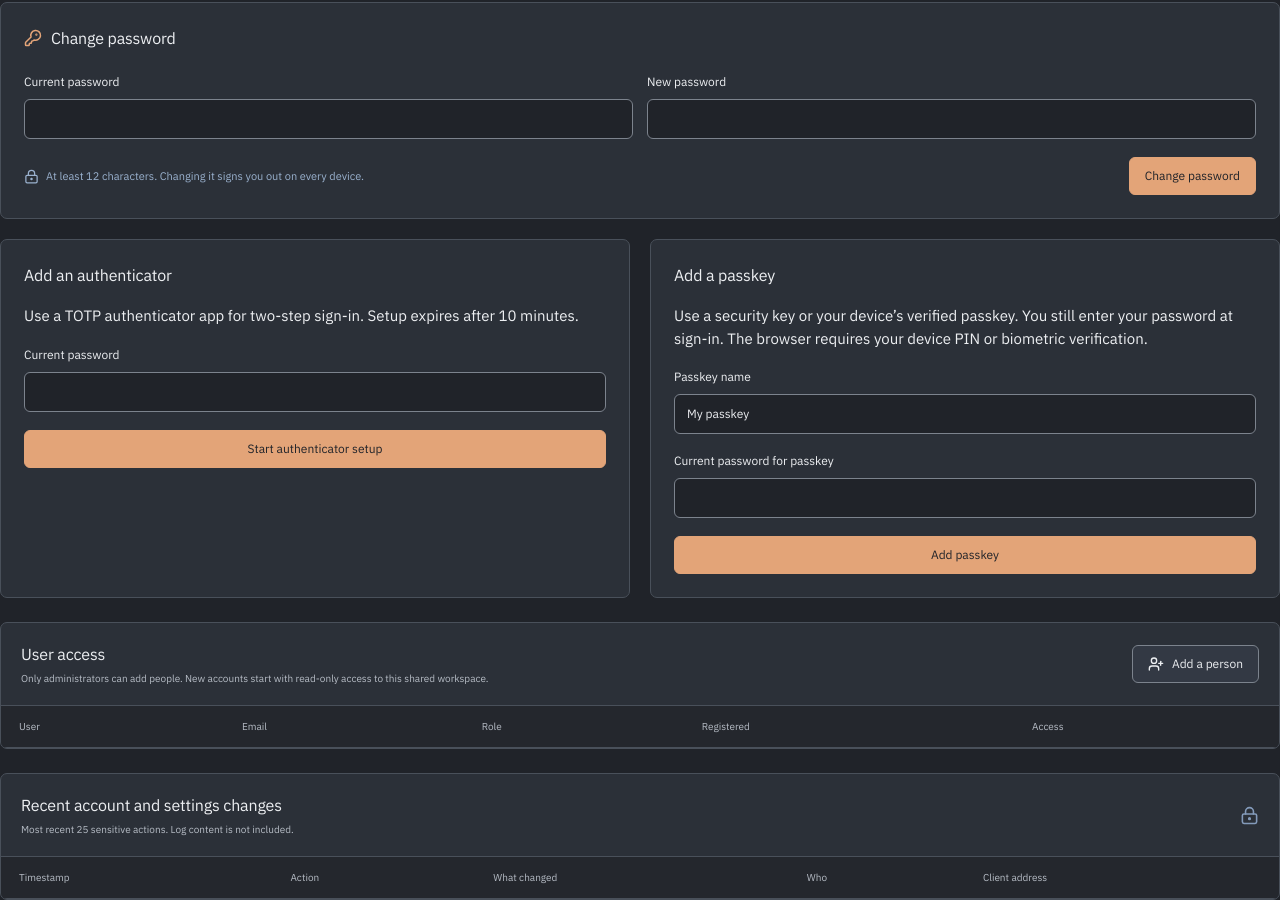
it: administrator account admission › requires an explicit trust acknowledgement and creates only read-only access
(page scrolled)
Click the button "Add a person" at (1196, 664), box [1132,645,1259,683]
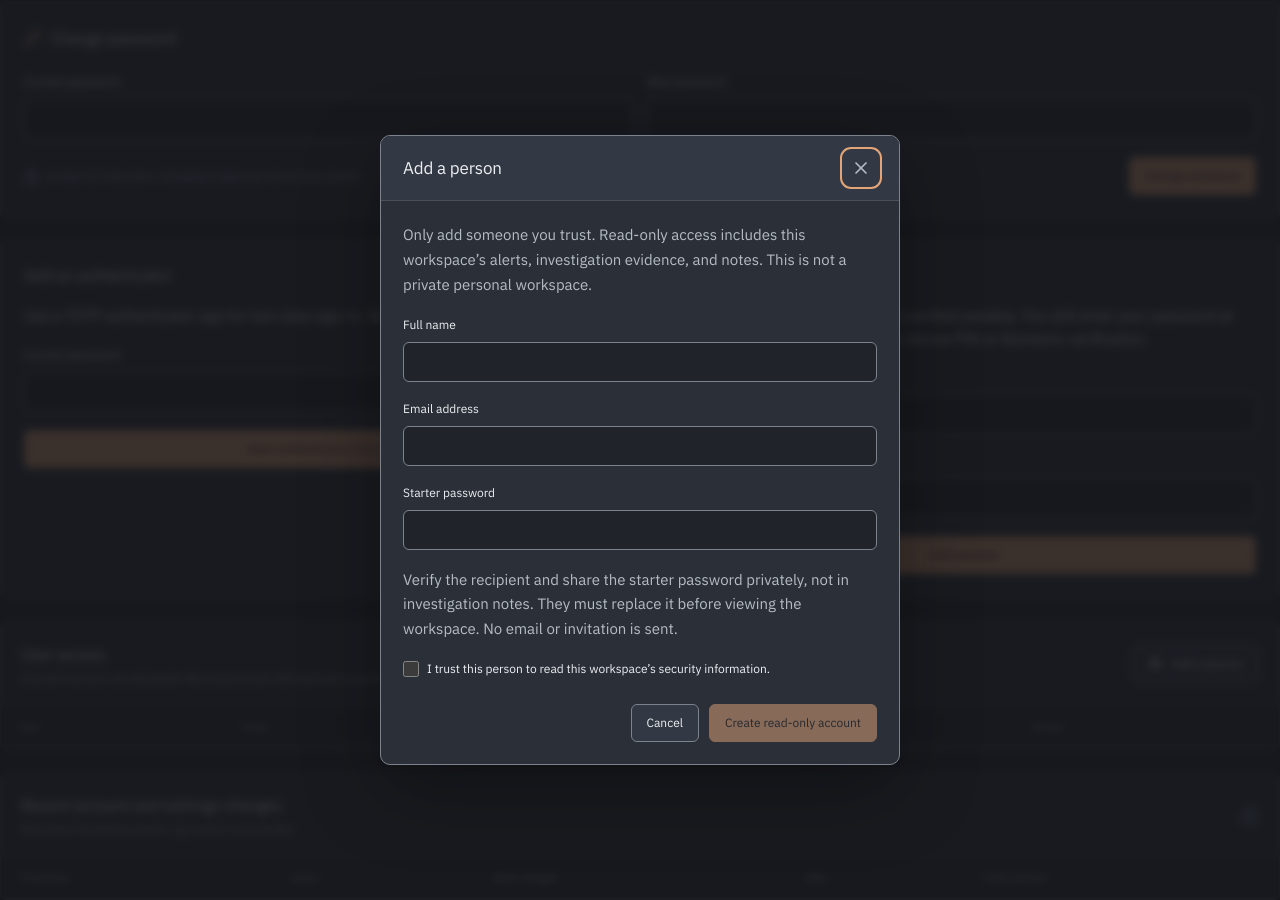
Now the text "not a private personal workspace" is shown, box [403,225,847,294]
Now the button "Create read-only account" is disabled, box [709,704,877,742]
Type "Trusted teammate" into the field labelled "Full name" at (640, 362), box [403,342,877,382]
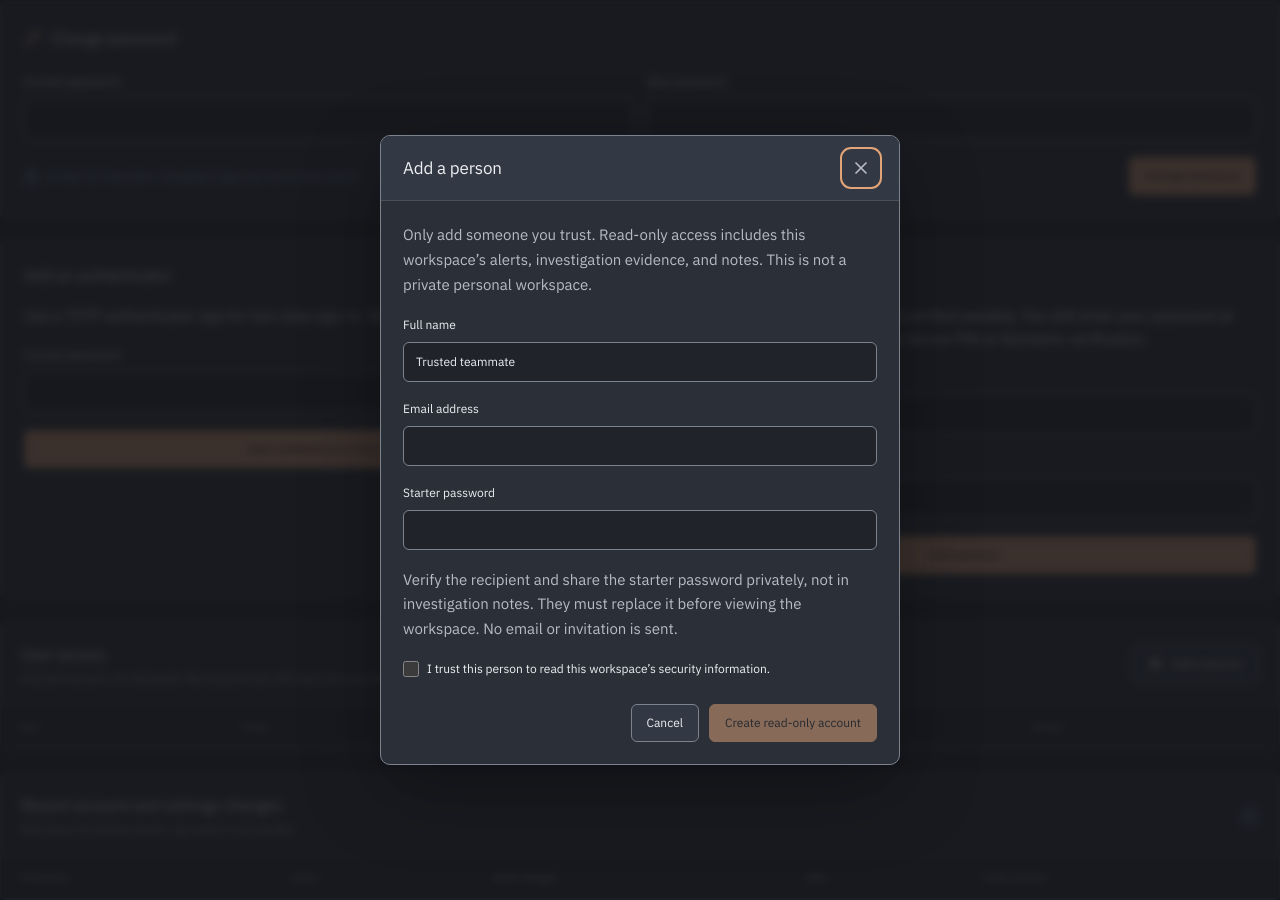
Type "teammate@example.com" into the field labelled "Email address" at (640, 446), box [403,426,877,466]
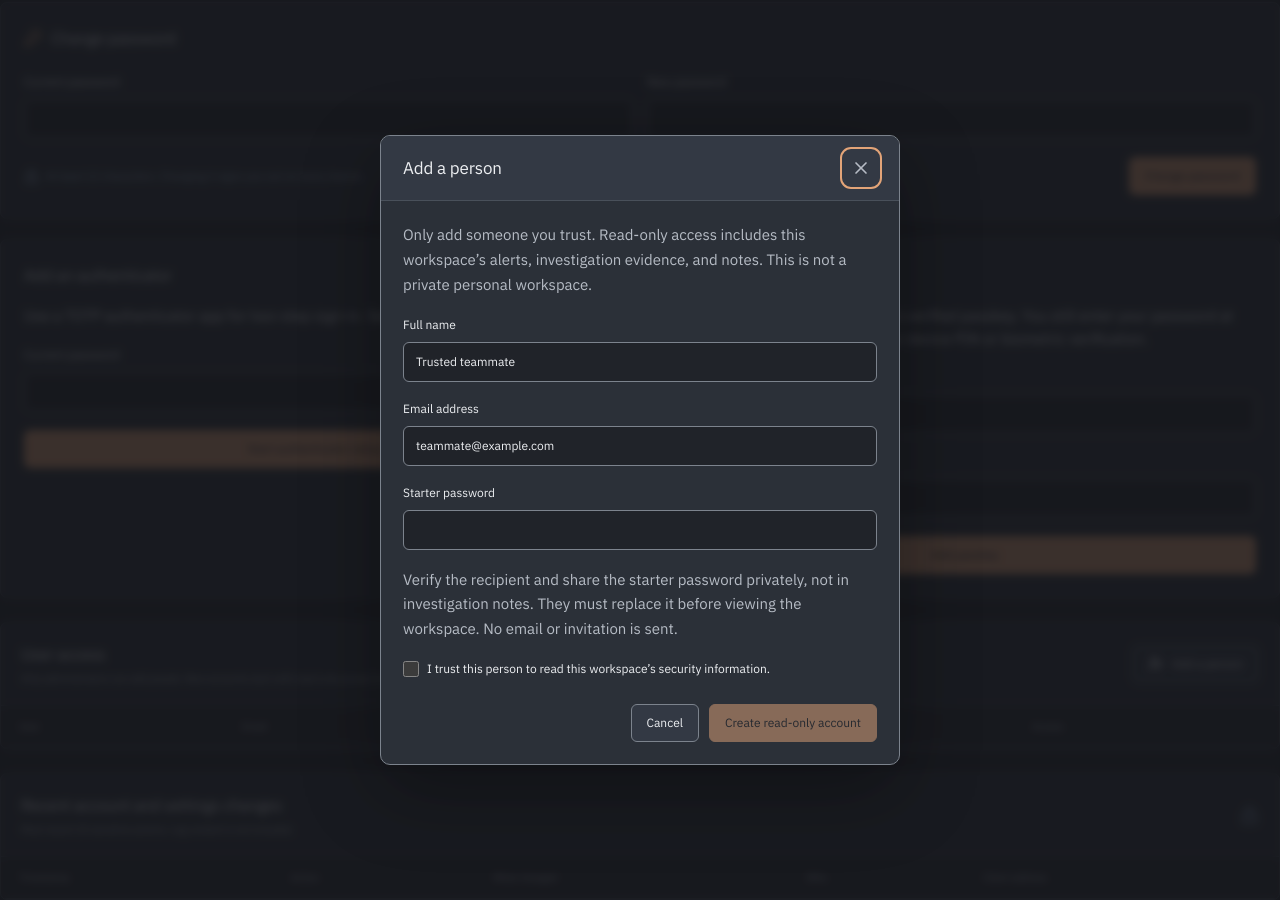
Type "Test-only-password-123!" into the password field labelled "Starter password" at (640, 530), box [403,510,877,550]
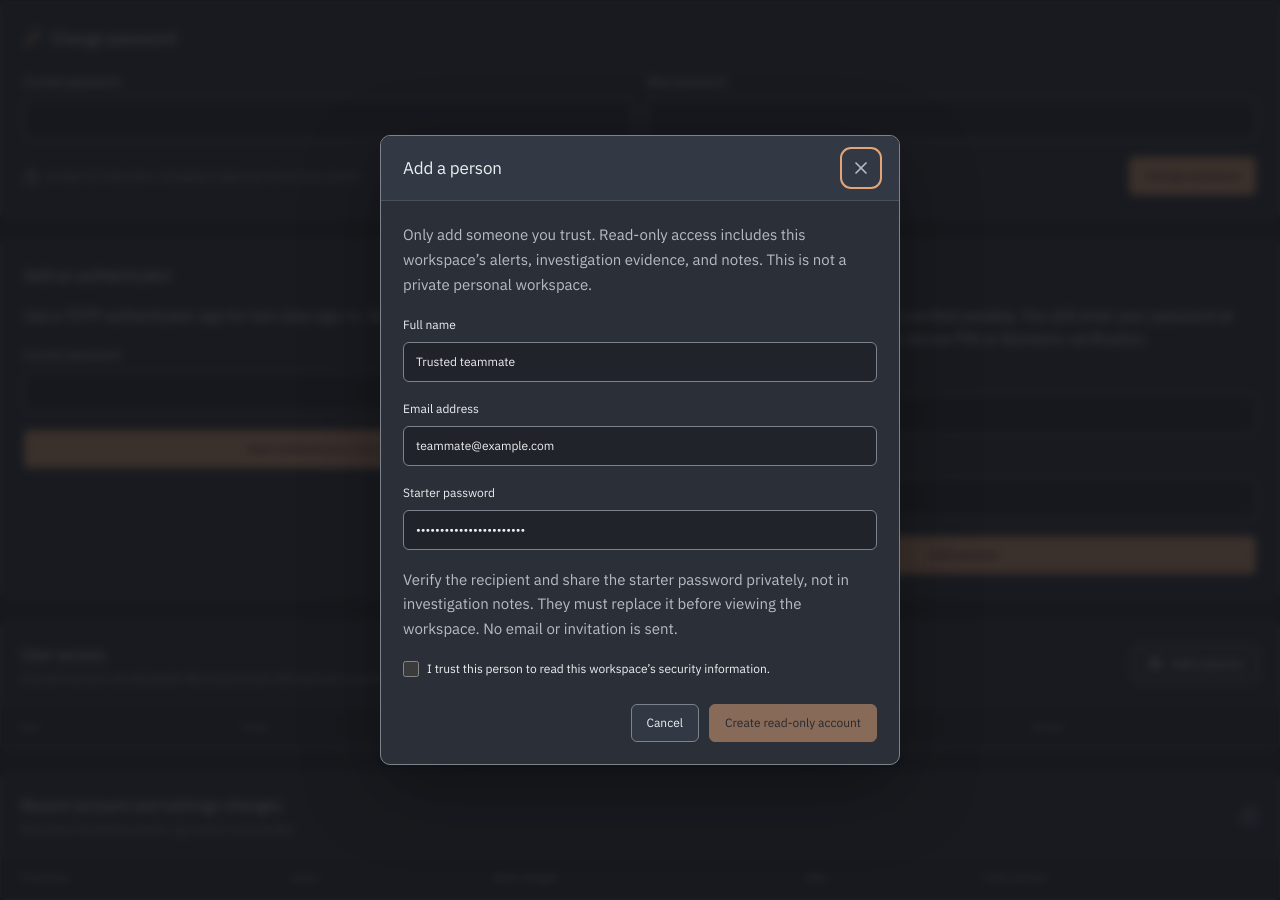
Click the checkbox at (411, 669), box [403,661,419,677]
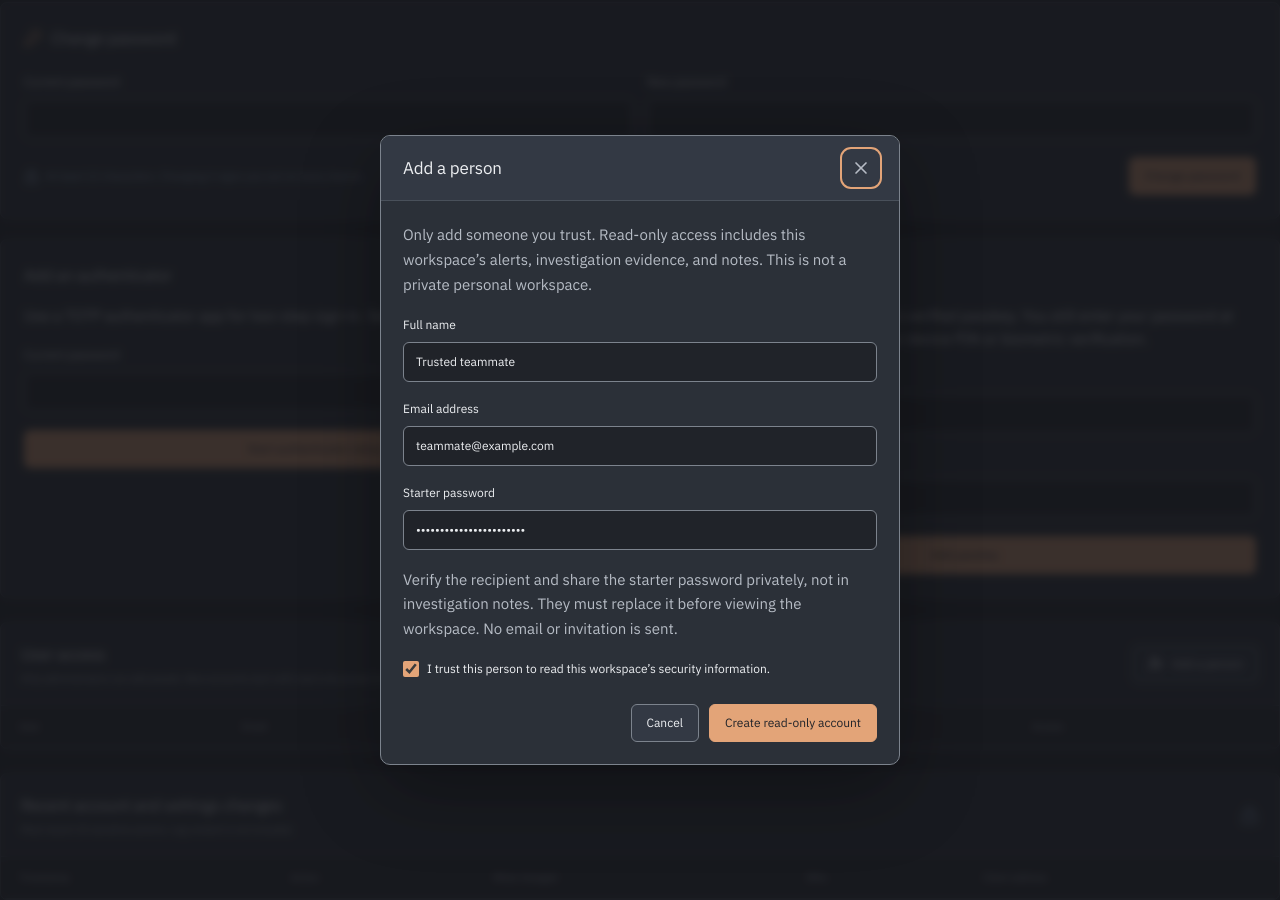
Click the button "Create read-only account" at (793, 723), box [709,704,877,742]
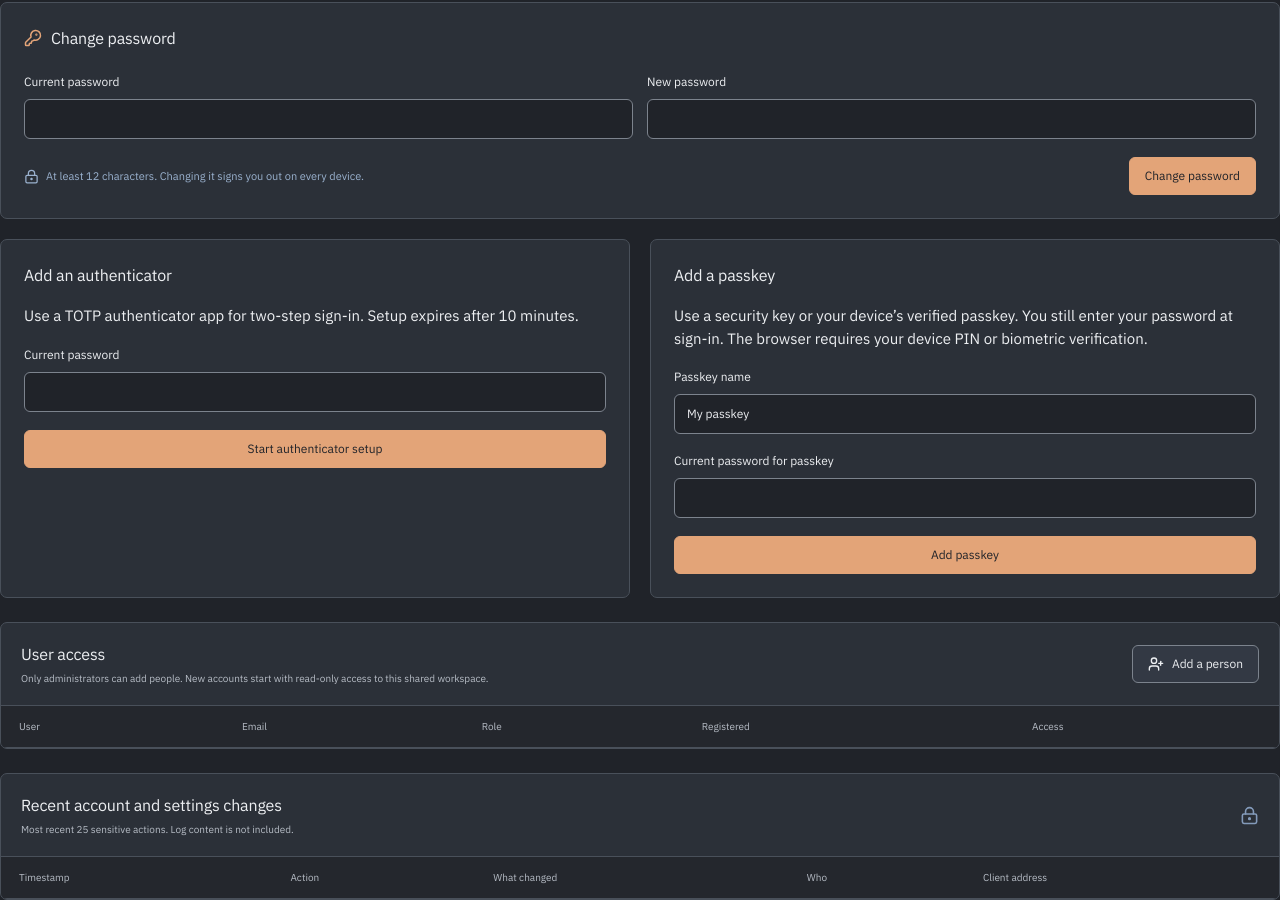
Now the dialog is gone
